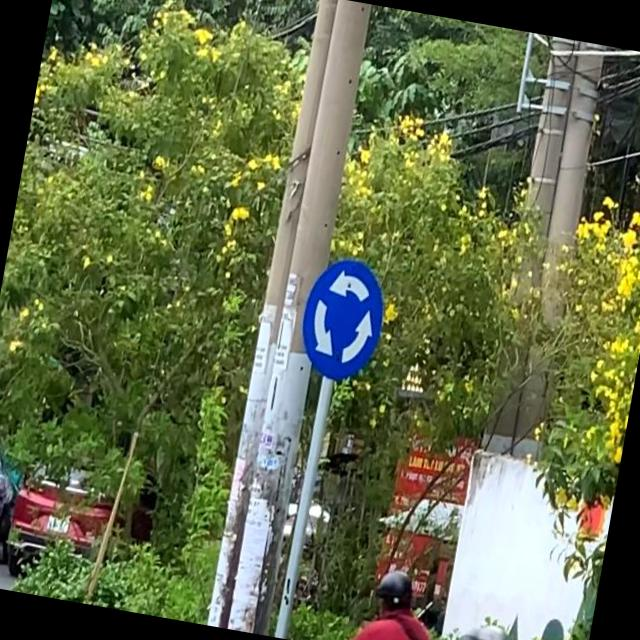R-303: (294, 250, 392, 382)
